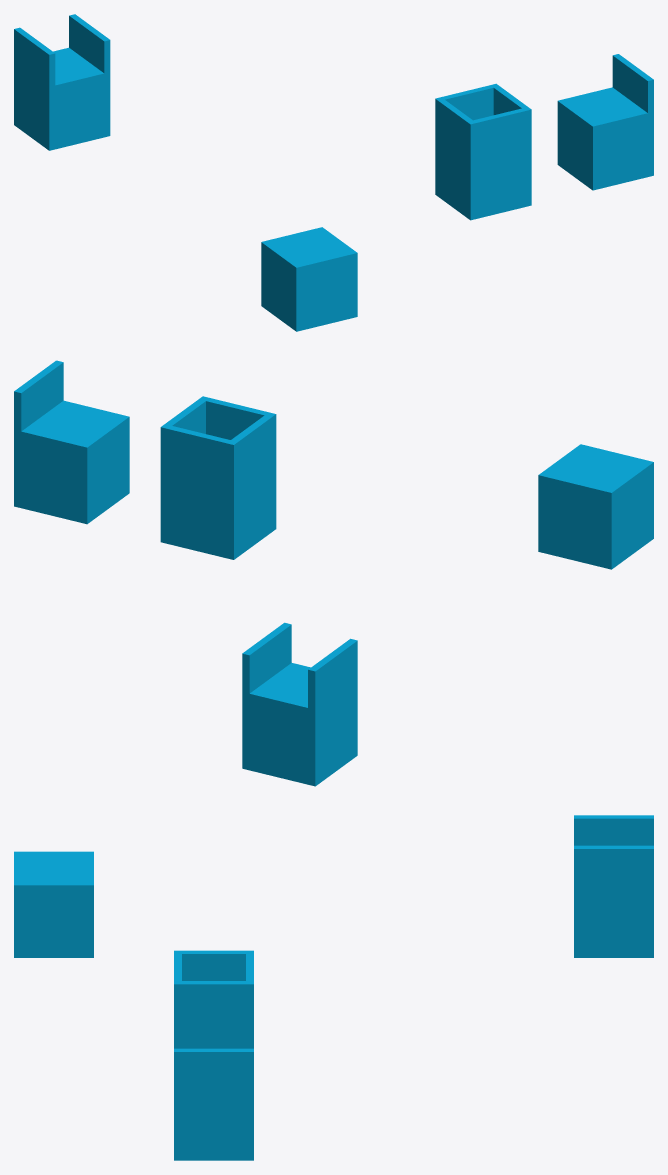
3 renders of one model, top to bottom at view 1: azimuth 30°, elevation 25°; view 2: azimuth 150°, elevation 25°; view 3: azimuth 270°, elevation 25°, orthographic. The views are drawn at different scales.
Visible parts, largest first — view 1: takai, tuzyou, katahou, takasa; view 2: takai, tuzyou, katahou, takasa; view 3: tuzyou, katahou, takasa, takai.
Part boxes in pixels (x1=…): takai: x1=435, y1=83, x2=531, y2=220; tuzyou: x1=14, y1=14, x2=110, y2=150; katahou: x1=557, y1=54, x2=653, y2=190; takasa: x1=261, y1=227, x2=357, y2=331; takai: x1=160, y1=396, x2=276, y2=559; tuzyou: x1=242, y1=622, x2=357, y2=786; katahou: x1=14, y1=360, x2=129, y2=524; takasa: x1=538, y1=444, x2=653, y2=569; tuzyou: x1=574, y1=815, x2=653, y2=957; katahou: x1=174, y1=1048, x2=253, y2=1160; takasa: x1=14, y1=851, x2=93, y2=957; takai: x1=174, y1=950, x2=253, y2=1048.
Size of the model in its own units: 14000 by 3000 by 16000.
